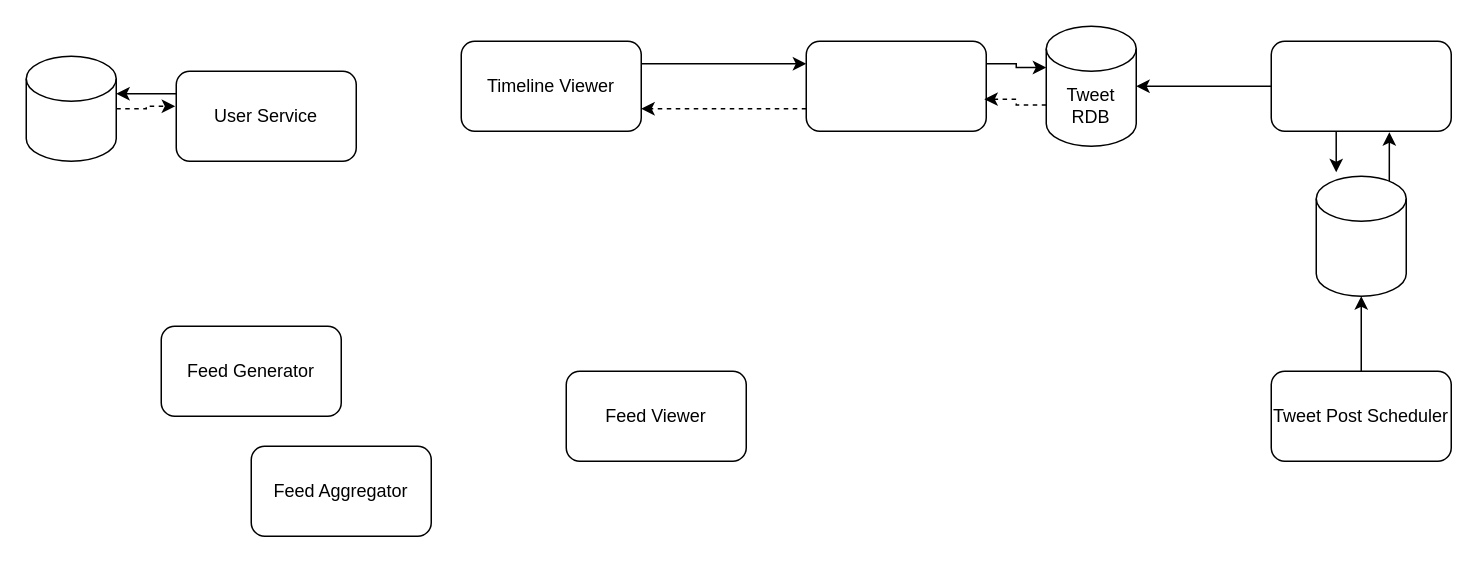
This 1478x563 diagram has some shape labels left out. The centre of each missing label's shape, as x and y in pixels:
Tweet Fetcher: point 895,85
Tweet Message Queue: point 1360,235
Tweet Poster: point 1360,85
Users RDB: point 70,108
